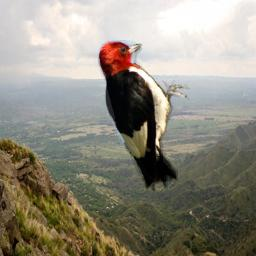Woodpecker: (97, 40, 190, 193)
